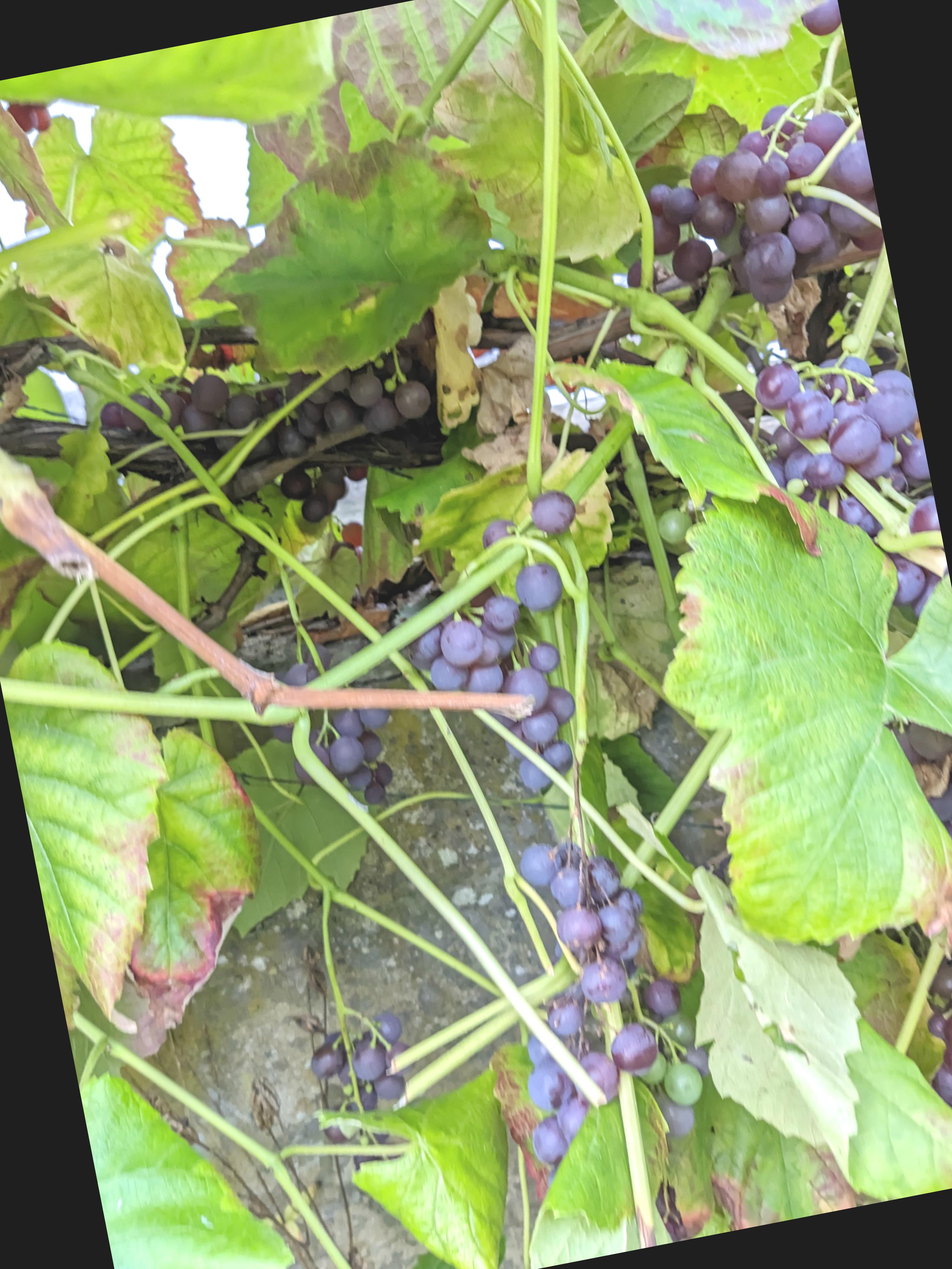Grape Unripe: (371, 913, 627, 1266), (761, 805, 952, 1269), (278, 587, 531, 916), (0, 429, 348, 657), (514, 185, 784, 420), (639, 437, 847, 730), (173, 742, 302, 916), (190, 1106, 309, 1235)
